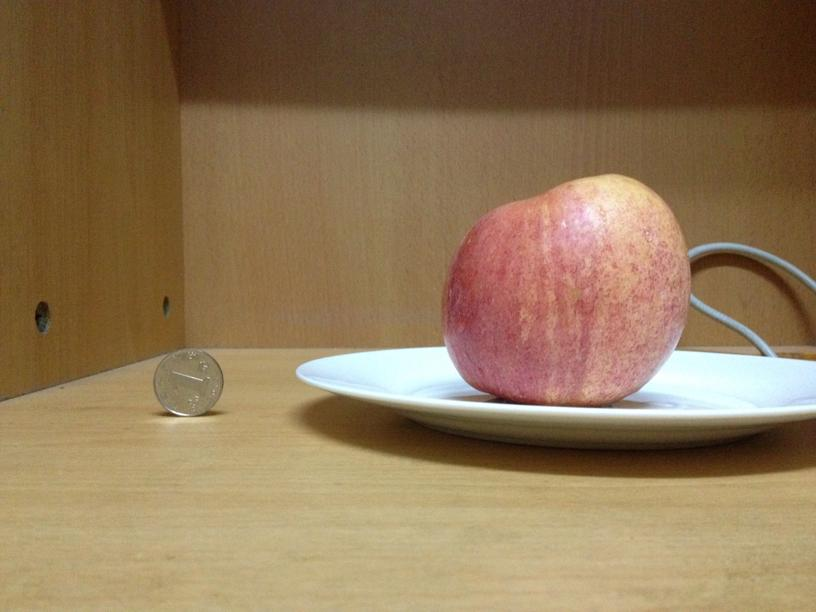apple: (446, 171, 688, 408)
coin: (151, 348, 222, 414)
